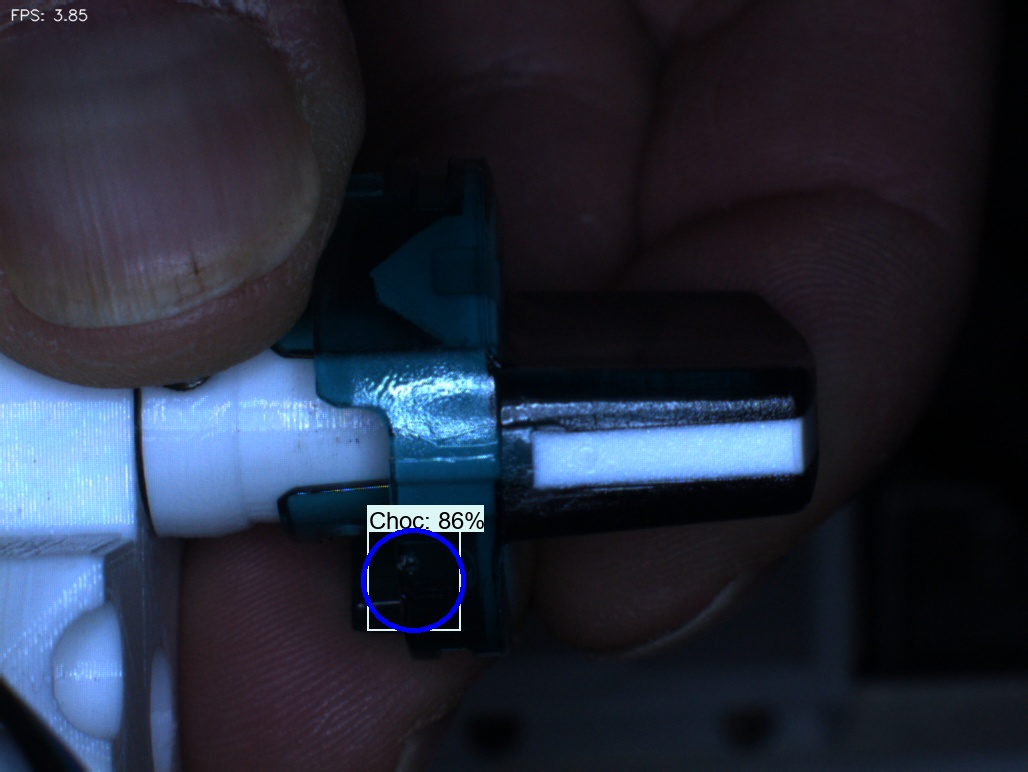DentOk: (348, 244, 412, 321)
